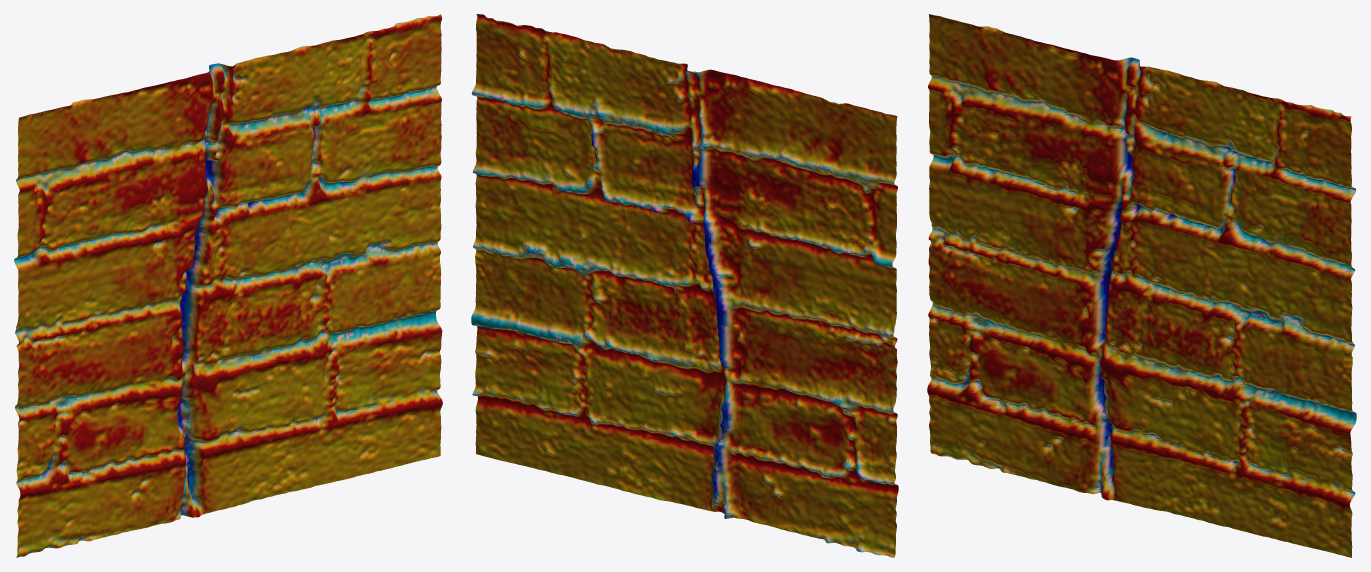
The picture shows the model from 3 angles, left to right: view 1: azimuth 30°, elevation 25°; view 2: azimuth 150°, elevation 25°; view 3: azimuth 330°, elevation 25°; orthographic projection.
Parts seen in each view (by area): view 1: world; view 2: world; view 3: world.
Boxes of the visible parts, x1,y1,x2,y2 form: world: (14,14,442,557); world: (471,14,898,557); world: (927,14,1356,557).
Size of the model in its own units: 299 by 299 by 12.
